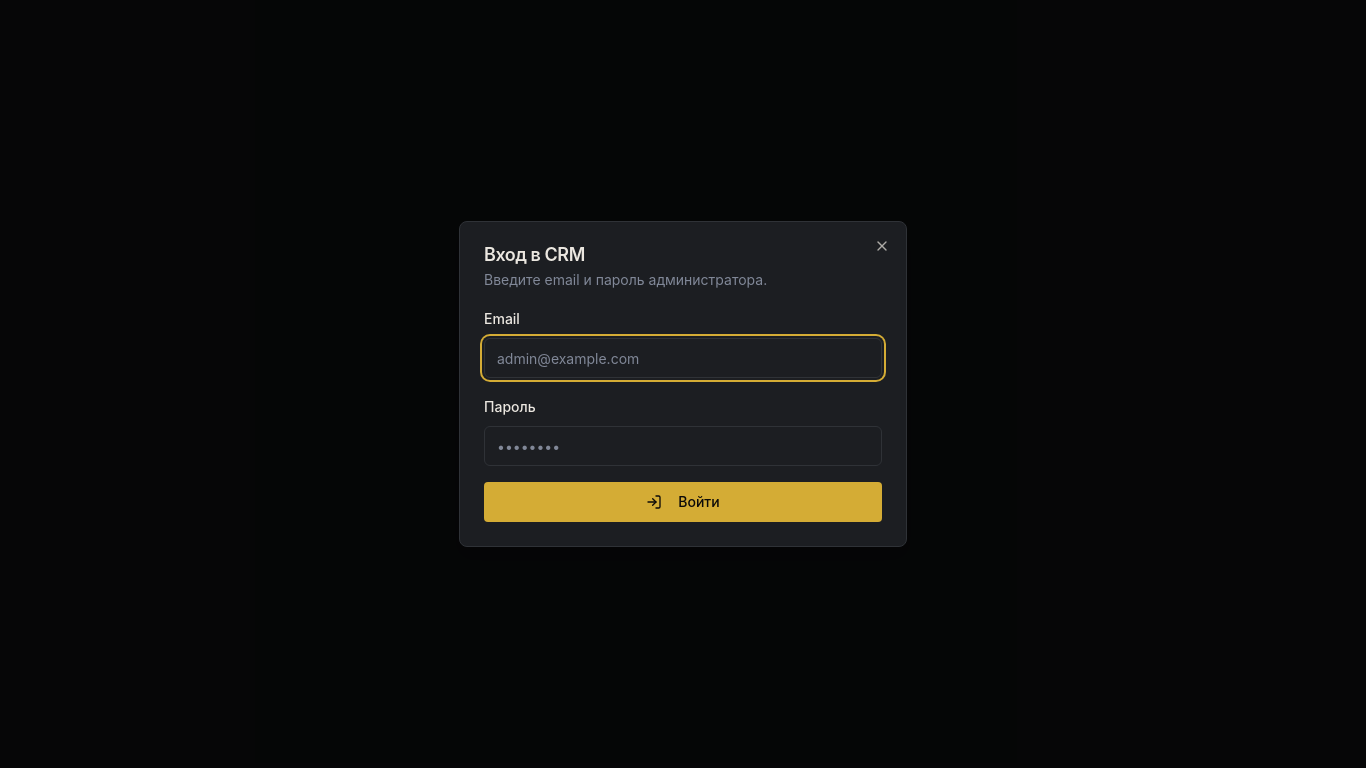
Test: CRM login feedback › distinguishes a timed-out server from invalid credentials
The width and height of the screenshot is (1366, 768).
Type "admin@example.test" into the field labelled "Email" at {"x": 683, "y": 358}, box [484,338,882,378]
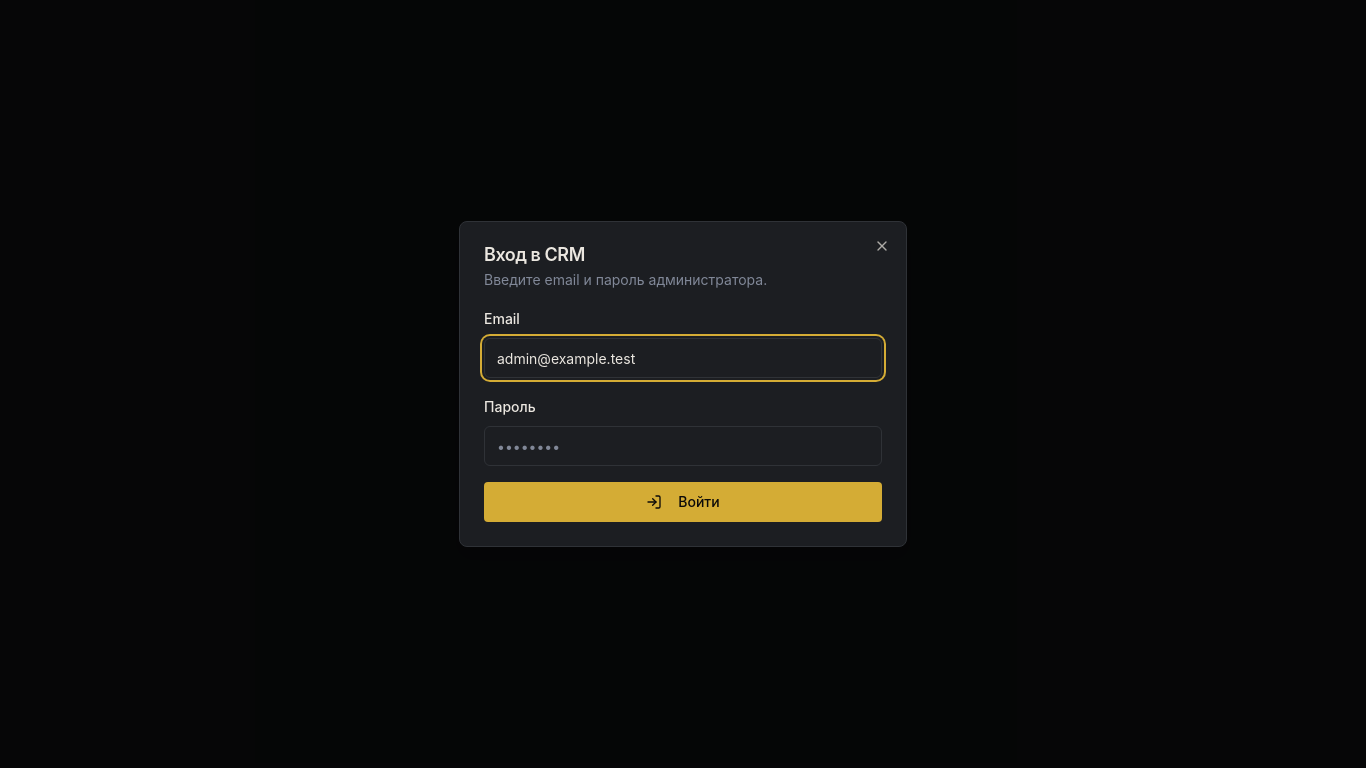
Type "test-password" into the password field labelled "Пароль" at {"x": 683, "y": 446}, box [484,426,882,466]
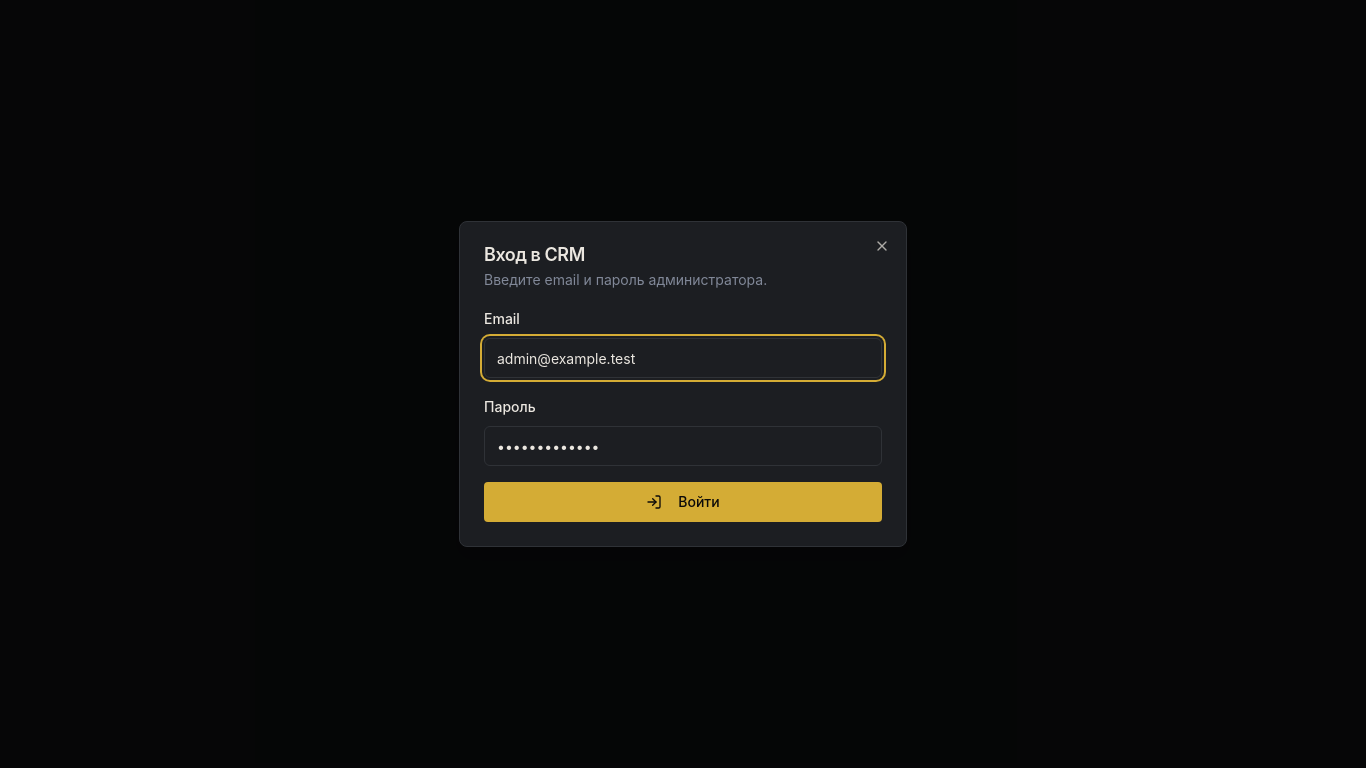
Click the button "Войти" at {"x": 683, "y": 502}, box [484,482,882,522]
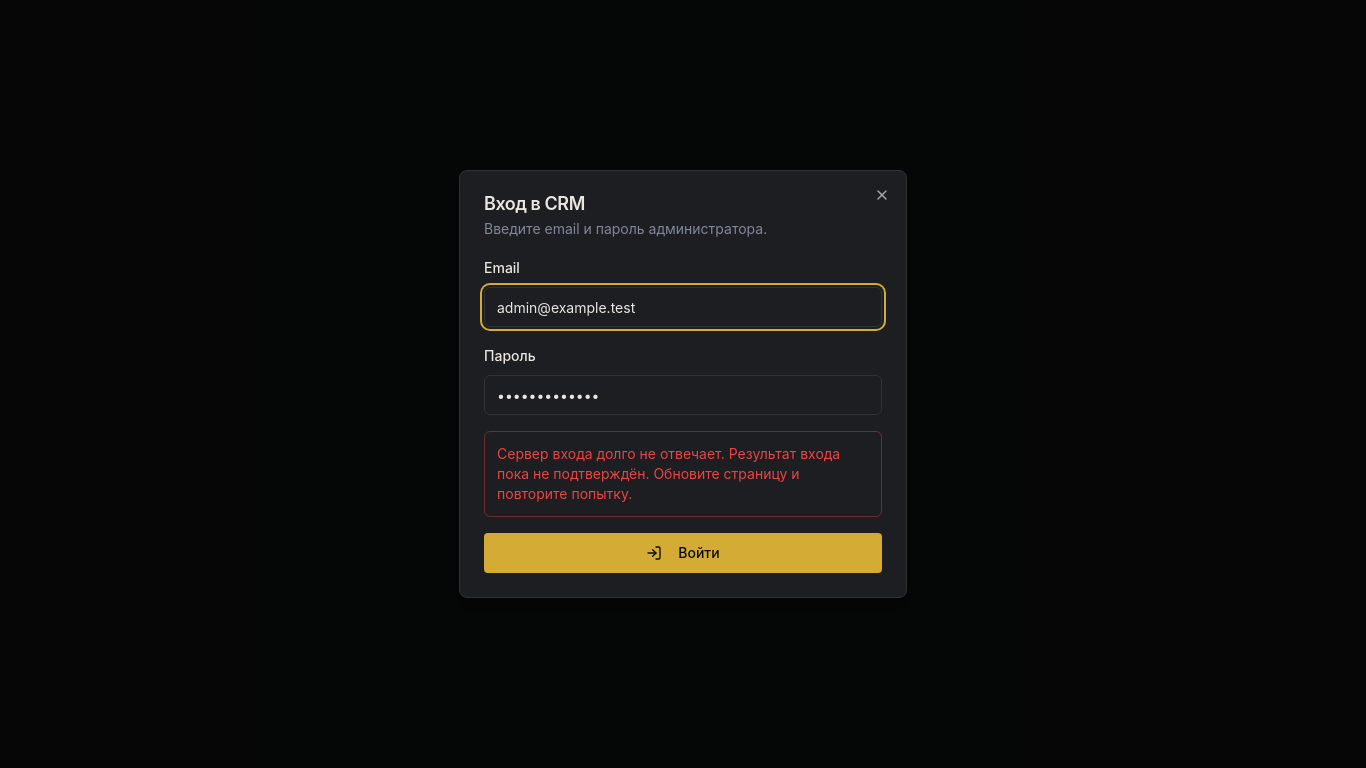
Result: the message shows "Результат входа пока не подтверждён" at [497,445,840,502]
